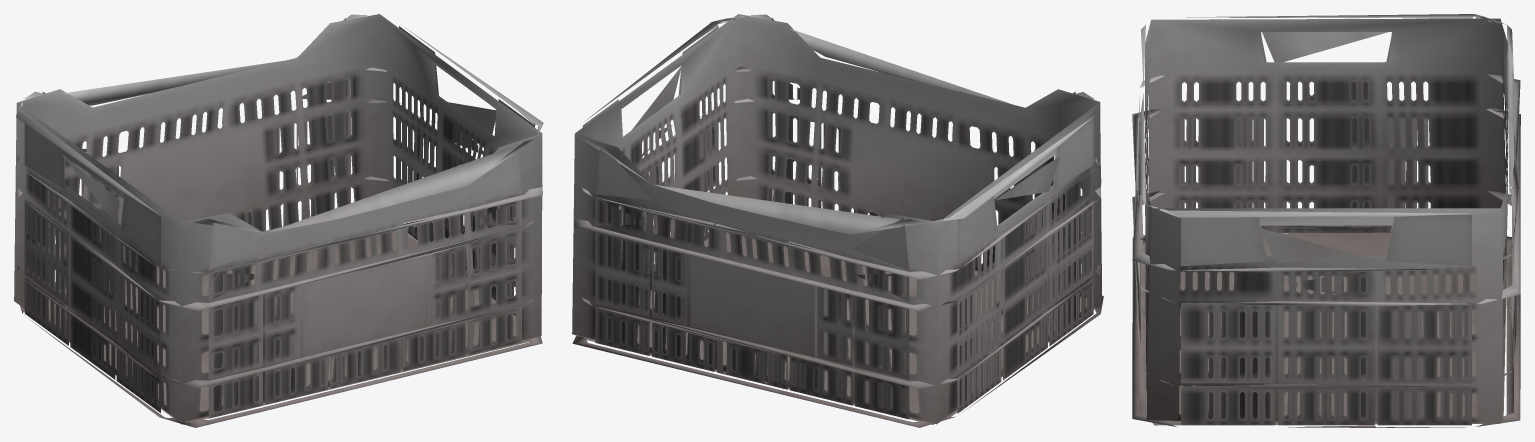
Rendered from crate.glb.
3 renders of one model, left to right at view 1: azimuth 30°, elevation 25°; view 2: azimuth 150°, elevation 25°; view 3: azimuth 270°, elevation 25°, orthographic. The views are drawn at different scales.
Visible parts, largest first — view 1: crate; view 2: crate; view 3: crate.
Boxes of the visible parts, box(x1,y1,x2,y2) form: crate: box(14, 14, 543, 427); crate: box(572, 14, 1103, 427); crate: box(1132, 14, 1520, 427).
Size of the model in its own units: 0.502 by 0.252 by 0.4047.
1 material, 1 textured.
